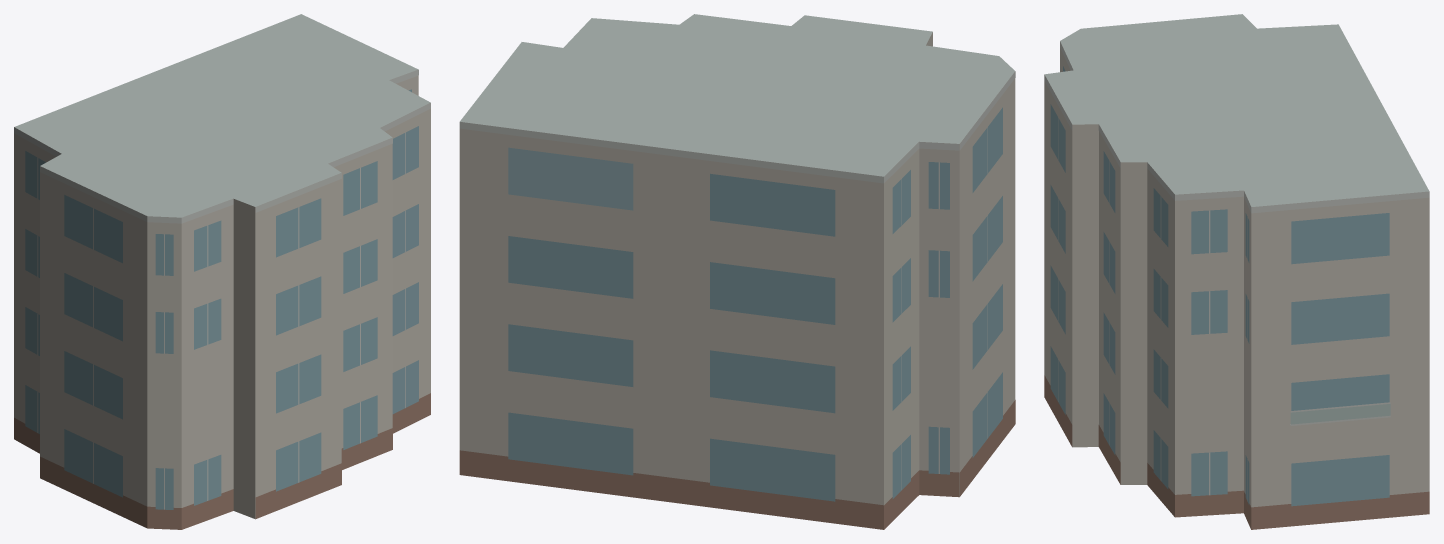
Rendered from survey-upis-32906565.glb.
The picture shows the model from 3 angles, left to right: view 1: azimuth 30°, elevation 25°; view 2: azimuth 150°, elevation 25°; view 3: azimuth 270°, elevation 25°; orthographic projection. The views are drawn at different scales.
Parts seen in each view (by area): view 1: survey-upis-32906565.tmp; view 2: survey-upis-32906565.tmp; view 3: survey-upis-32906565.tmp.
Part boxes in pixels (x1,y1,x2,y2): survey-upis-32906565.tmp: (14,14,430,529); survey-upis-32906565.tmp: (459,14,1015,529); survey-upis-32906565.tmp: (1044,14,1429,529).
Bounding box in the file's own units: 16.31 × 12.7 × 13.75.
